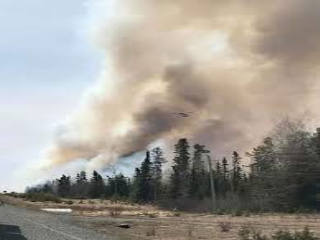smoke: (29, 48, 248, 192)
